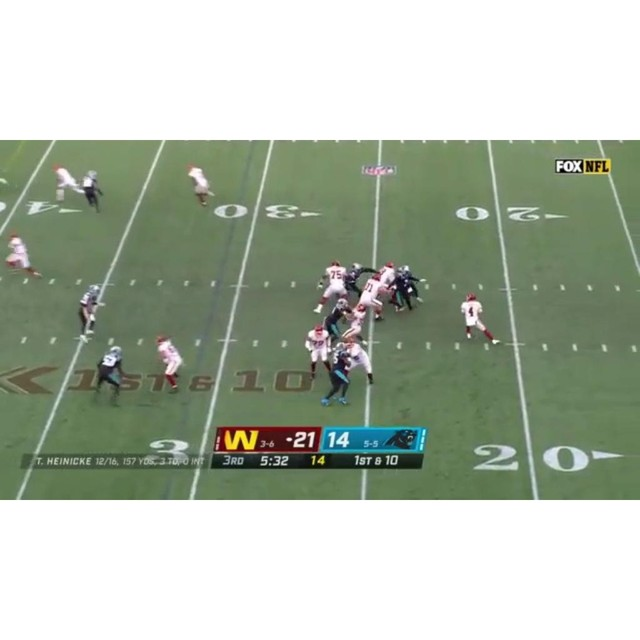american-football-player: (460, 292, 498, 346), (93, 345, 126, 406), (321, 344, 353, 406), (312, 260, 349, 312), (5, 231, 42, 281), (304, 323, 334, 382), (155, 334, 184, 391), (78, 285, 105, 342), (355, 274, 387, 322), (344, 338, 374, 385), (323, 299, 351, 343), (51, 163, 81, 202), (187, 164, 214, 207), (79, 169, 104, 215)
